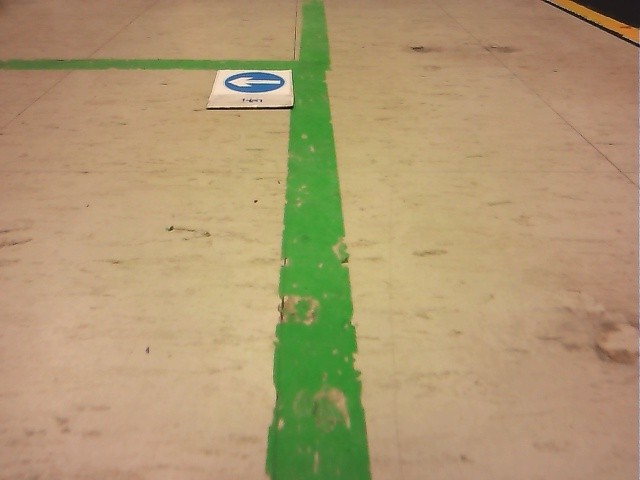TURN LEFT: (224, 72, 289, 93)
